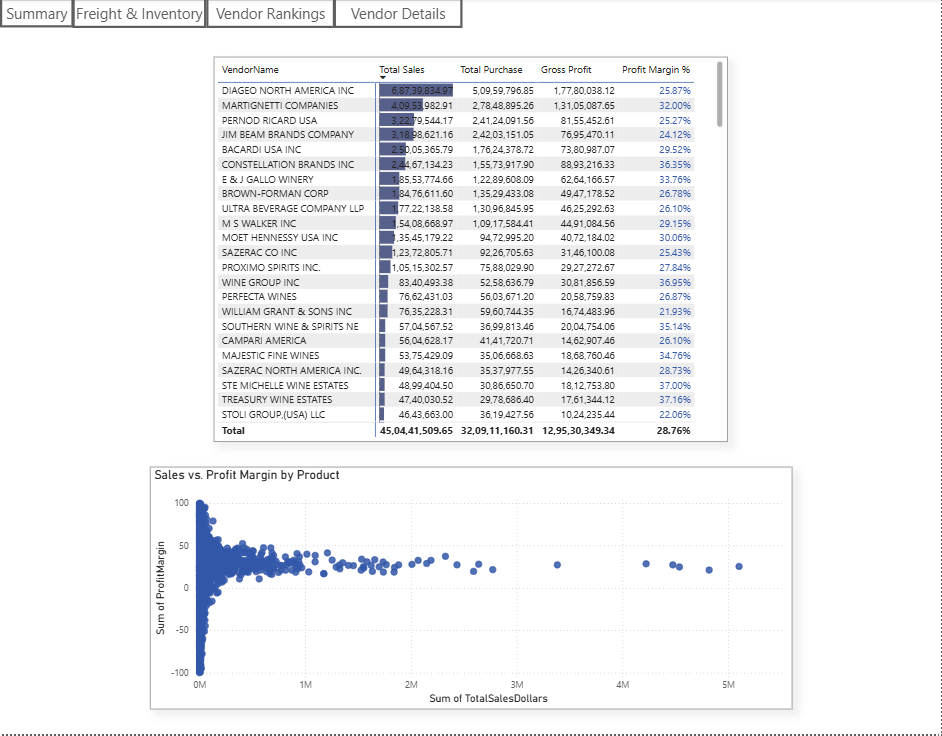

The dashboard page shown, as its layout file describes it:
{"tool":"powerbi","page":{"name":"Vendor Rankings","canvas":[1280,1000],"ordinal":2},"visuals":[{"type":"pivotTable","fields":{"Rows":["vendor_sales_compressed.VendorName"],"Values":["vendor_sales_compressed.Total Sales","vendor_sales_compressed.Total Purchase","vendor_sales_compressed.Gross Profit","vendor_sales_compressed.Profit Margin %"]},"box":[290.4,79.8,698,523.1],"z":0},{"type":"scatterChart","title":"Sales vs. Profit Margin by Product","fields":{"Y":["Sum(vendor_sales_compressed.ProfitMargin)"],"X":["Sum(vendor_sales_compressed.TotalSalesDollars)"],"Category":["vendor_sales_compressed.Brand"]},"box":[203.8,636.9,873,329.5],"z":1000},{"type":"actionButton","box":[0,0,100,40],"z":1001},{"type":"actionButton","box":[98.5,0,181.7,40.8],"z":1002},{"type":"actionButton","box":[280.2,0,174.9,40.8],"z":1003},{"type":"actionButton","title":"Vendor Detail","box":[453.5,0,174.9,40.8],"z":1004}]}

Visuals, with their boxes on the page's 1280x1000 design canvas (x1, y1, x2, y2). These are canvas units, not pixel positions in the 942x736 screenshot, which may show the page scaled, cropped or inside an application window:
pivotTable - vendor_sales_compressed.VendorName x vendor_sales_compressed.Total Sales: (left=290, top=80, right=988, bottom=603)
"Sales vs. Profit Margin by Product" scatterChart: (left=204, top=637, right=1077, bottom=966)
actionButton: (left=0, top=0, right=100, bottom=40)
actionButton: (left=98, top=0, right=280, bottom=41)
actionButton: (left=280, top=0, right=455, bottom=41)
"Vendor Detail" actionButton: (left=454, top=0, right=628, bottom=41)
